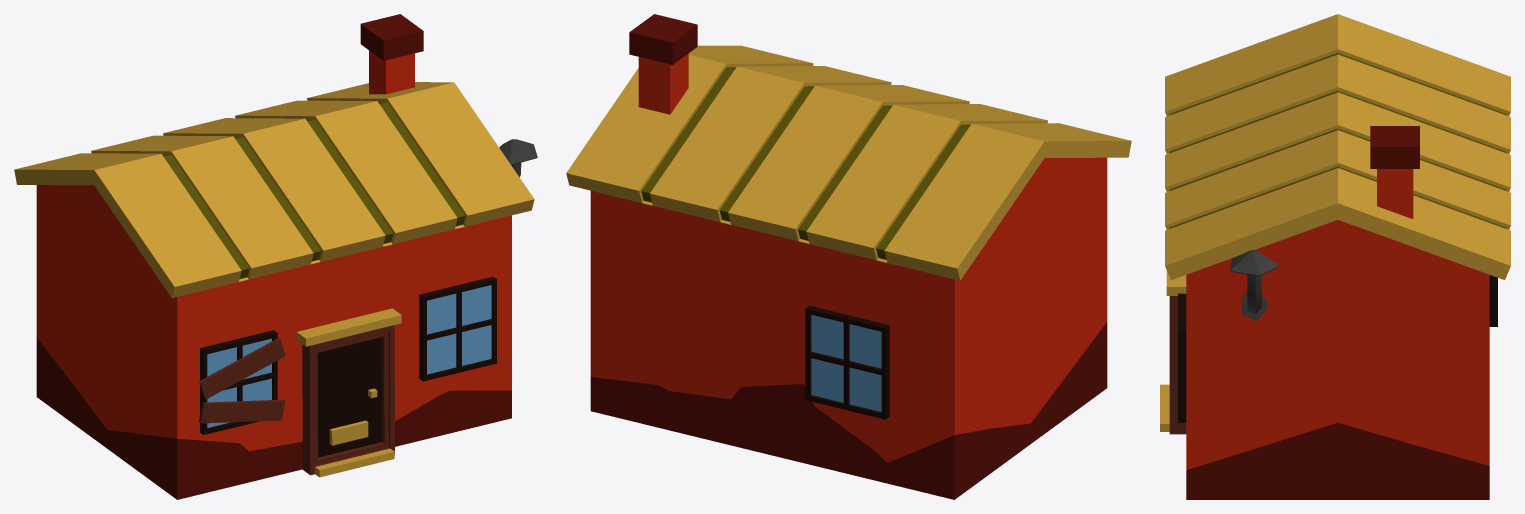
The model's file is House2.fbx.
3 views of the same model, side by side, from view 1: azimuth 30°, elevation 25°; view 2: azimuth 150°, elevation 25°; view 3: azimuth 270°, elevation 25° (orthographic). The views are drawn at different scales.
Visible parts, largest first — view 1: Mesh; view 2: Mesh; view 3: Mesh.
Boxes of the visible parts, left/top/right/bottom form: Mesh: left=14, top=14, right=537, bottom=499; Mesh: left=566, top=14, right=1131, bottom=499; Mesh: left=1160, top=14, right=1510, bottom=499.
Bounding box in the file's own units: 777 × 601 × 544.
